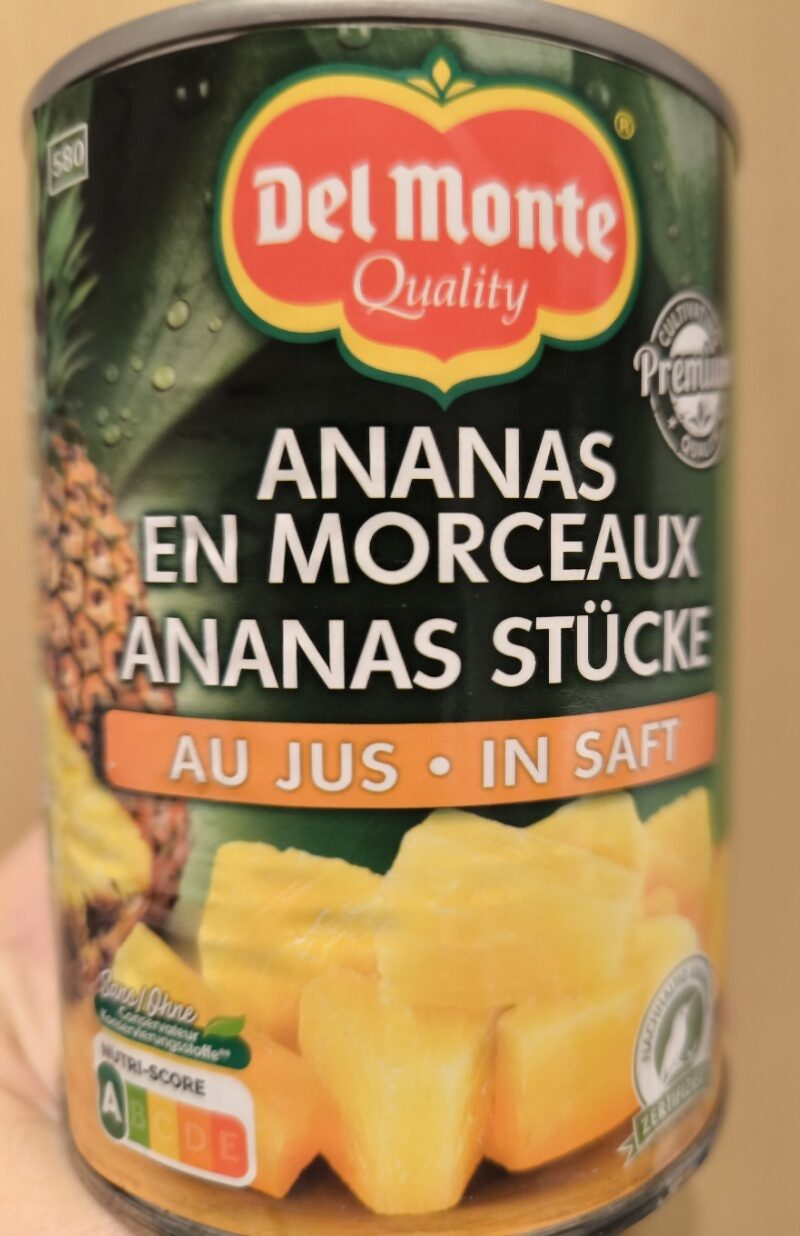Pineapple Chunks: (40, 62, 760, 1174)
